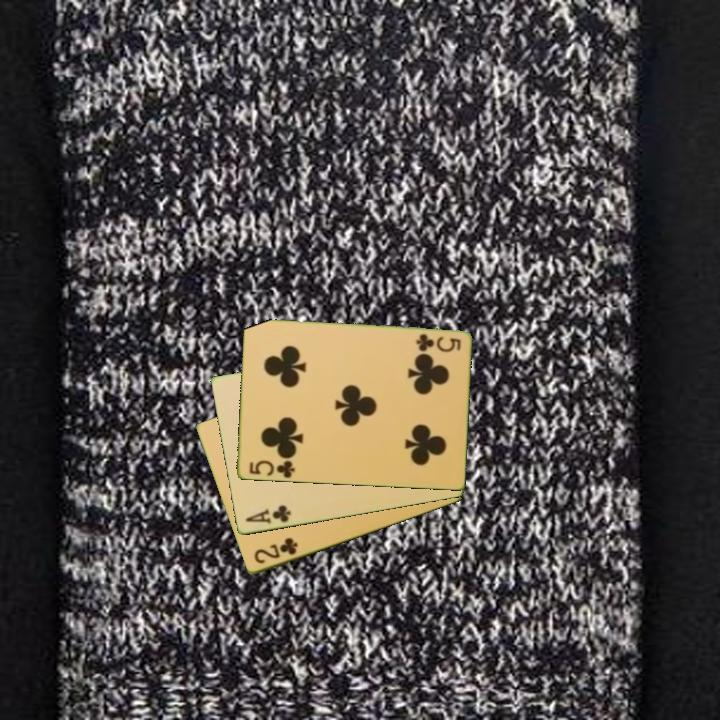2c: (250, 534, 301, 567)
5c: (245, 455, 297, 480), (412, 330, 463, 354)
Ac: (242, 502, 294, 527)
